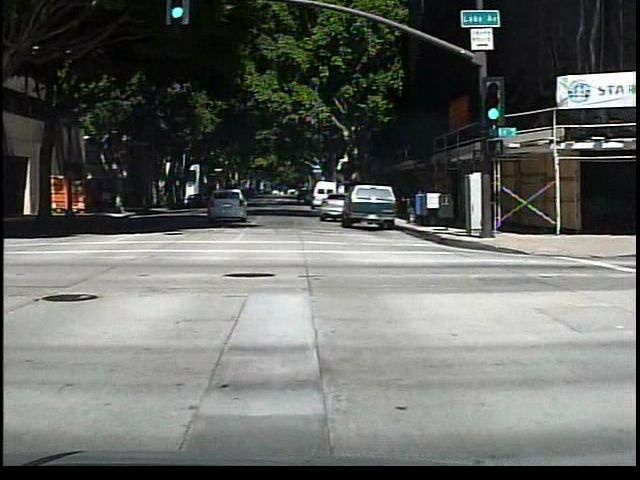person: (96, 184, 112, 218)
